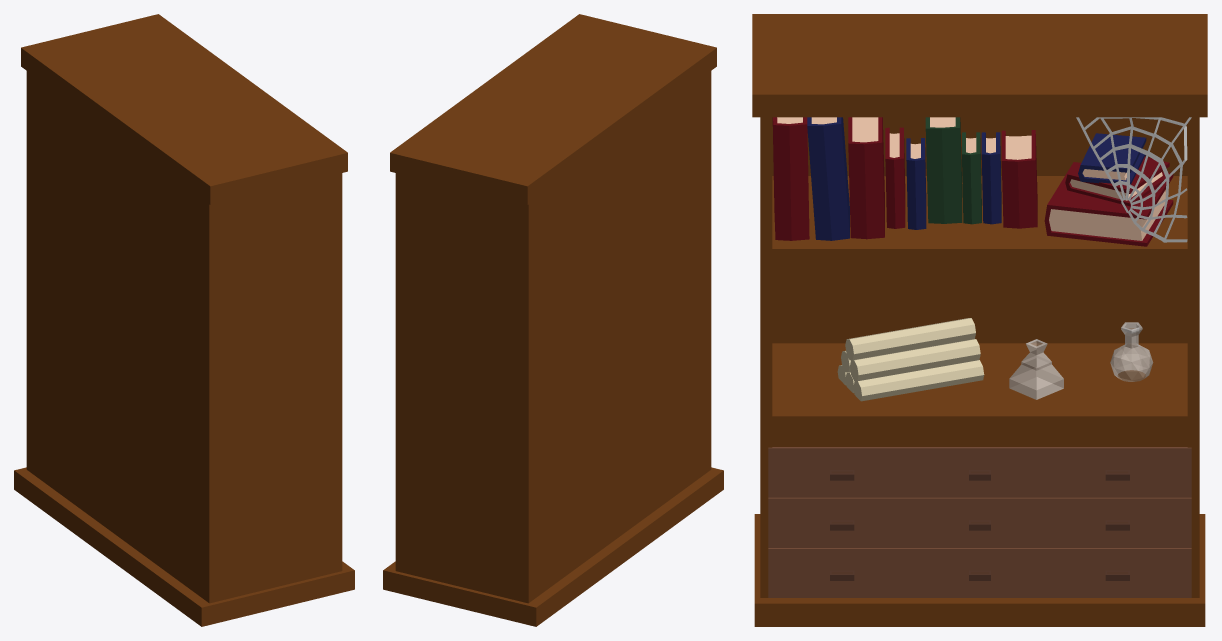
File: library.glb
3 renders of one model, left to right at view 1: azimuth 30°, elevation 25°; view 2: azimuth 150°, elevation 25°; view 3: azimuth 270°, elevation 25°, orthographic. The views are drawn at different scales.
Visible parts, largest first — view 1: Libreria.001; view 2: Libreria.001; view 3: Libreria.001, Cassetti, Pergamena chiusa.003, Libro.014, Libro.008, Libro.009, Libro.004, Ragnatela Angolo, Libro.012, Libro.013, Libro.006, Bottiglia.005 (+6 smaller).
Part boxes in pixels (x1,y1,x2,y2): Libreria.001: (14, 14, 354, 626); Libreria.001: (383, 14, 723, 626); Libreria.001: (752, 14, 1207, 626); Cassetti: (768, 447, 1191, 597); Pergamena chiusa.003: (837, 318, 984, 401); Libro.014: (1044, 162, 1173, 246); Libro.008: (807, 117, 849, 240); Libro.009: (772, 117, 809, 240); Libro.004: (848, 117, 884, 239); Ragnatela Angolo: (1076, 117, 1191, 242); Libro.012: (925, 117, 962, 223); Libro.013: (1001, 130, 1037, 228); Libro.006: (1078, 133, 1146, 184); Bottiglia.005: (1009, 339, 1063, 399).
Size of the model in its own units: 24.78 by 67.95 by 53.13.
